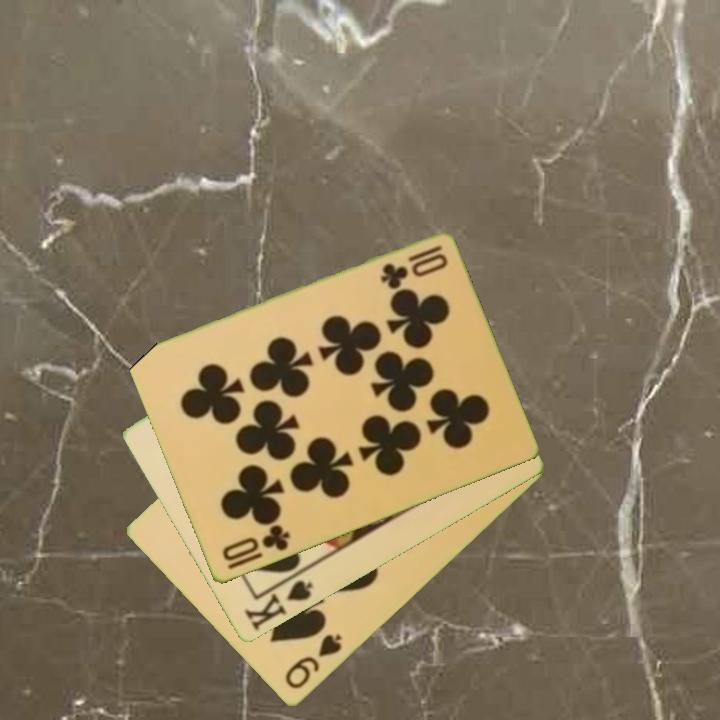10c: (376, 242, 451, 291), (218, 521, 293, 565)
9s: (281, 631, 345, 693)
Ks: (240, 577, 316, 635)
